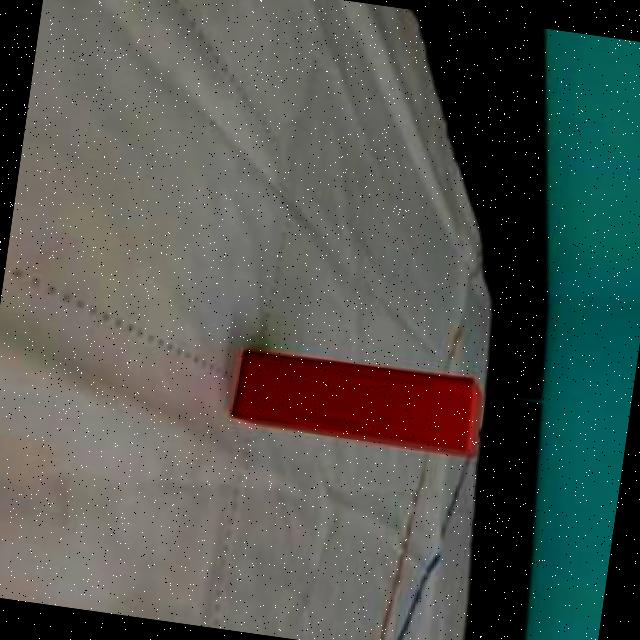redbox: (230, 344, 488, 460)
